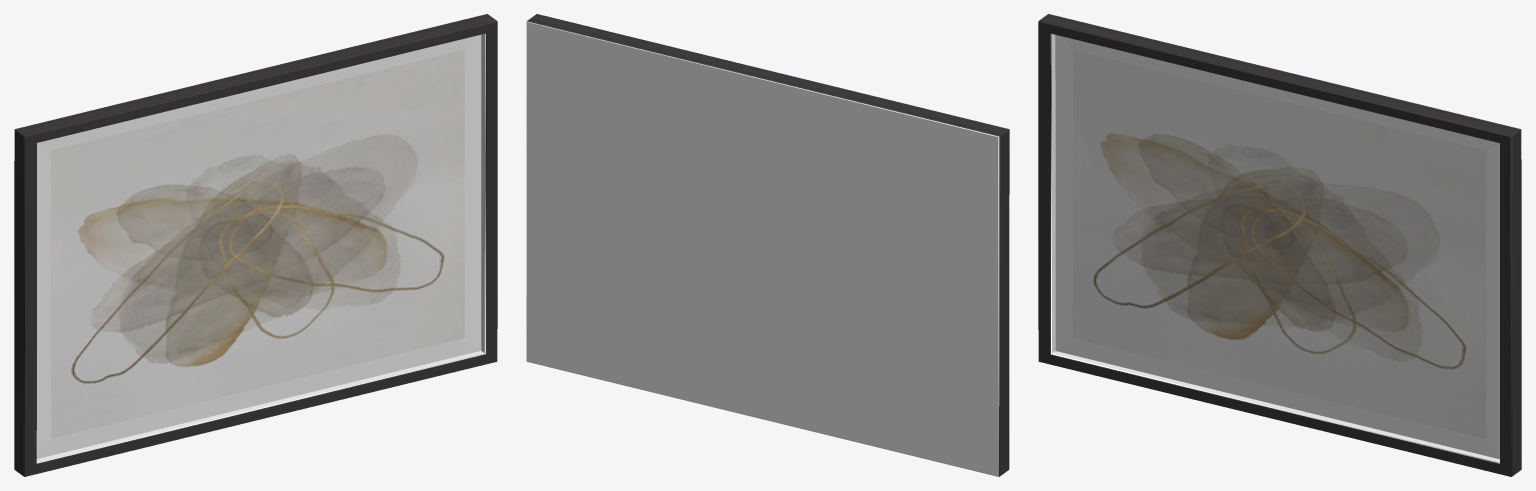
The model's file is frame.glb.
3 renders of one model, left to right at view 1: azimuth 30°, elevation 25°; view 2: azimuth 150°, elevation 25°; view 3: azimuth 330°, elevation 25°, orthographic.
Visible parts, largest first — view 1: Acc_yh_0; view 2: Acc_yh_0; view 3: Acc_yh_0.
Boxes of the visible parts, bbox=[...] form: Acc_yh_0: bbox=[14, 14, 497, 476]; Acc_yh_0: bbox=[526, 14, 1009, 476]; Acc_yh_0: bbox=[1038, 14, 1521, 476].
Bounding box in the file's own units: 0.88 × 0.6055 × 0.0356.
Materials: 1 (1 with a texture image).
